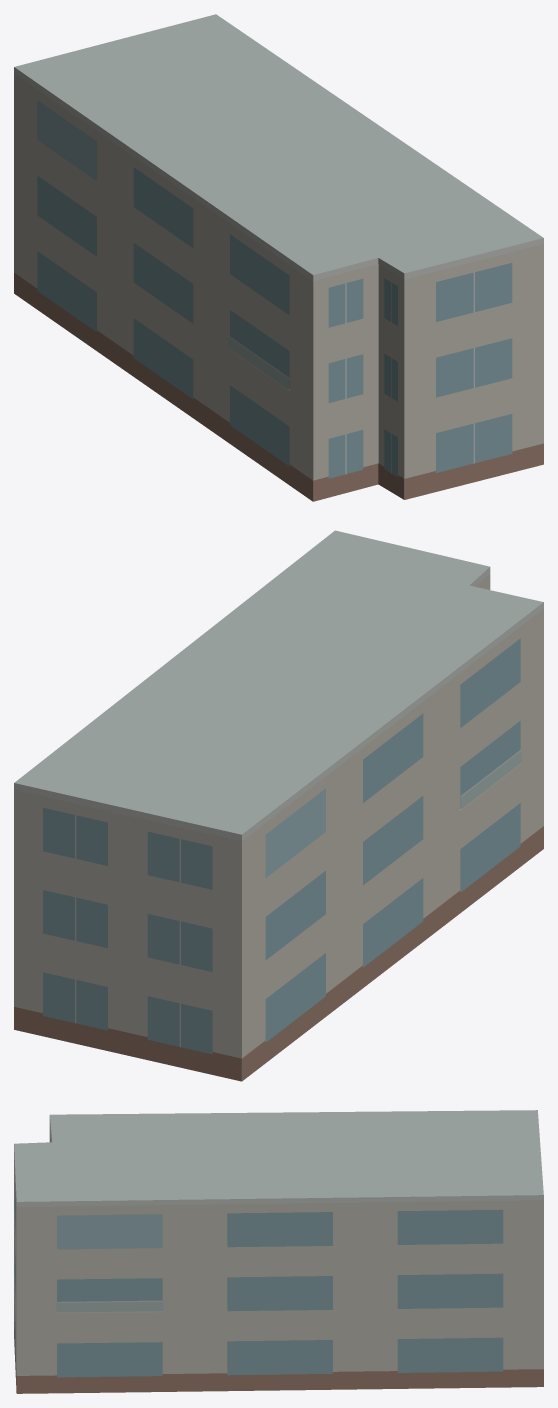
File: survey-upis-32958782.glb
The picture shows the model from 3 angles, top to bottom: view 1: azimuth 30°, elevation 25°; view 2: azimuth 150°, elevation 25°; view 3: azimuth 270°, elevation 25°; orthographic projection. The views are drawn at different scales.
Visible parts, largest first — view 1: survey-upis-32958782.tmp; view 2: survey-upis-32958782.tmp; view 3: survey-upis-32958782.tmp.
Part boxes in pixels (bbox=[...]): survey-upis-32958782.tmp: bbox=[14, 14, 543, 501]; survey-upis-32958782.tmp: bbox=[14, 530, 543, 1081]; survey-upis-32958782.tmp: bbox=[14, 1110, 543, 1393].
Size of the model in its own units: 9.4 by 9.15 by 22.9.
